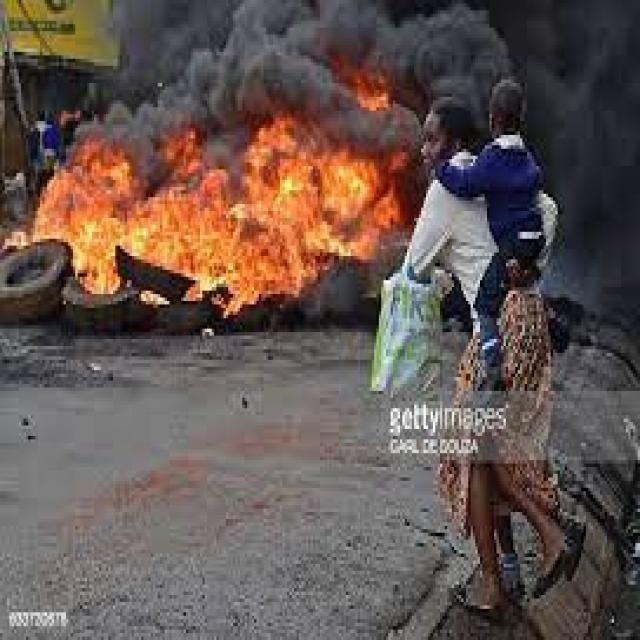Fire: (37, 114, 406, 316), (352, 66, 389, 110), (4, 227, 32, 254)
Smoke: (113, 0, 639, 113), (557, 116, 640, 296)
